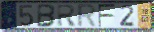2: (119, 4, 136, 28)
5: (18, 4, 36, 28)
B: (36, 4, 57, 28)
F: (97, 3, 117, 29)
R: (76, 3, 98, 29), (57, 4, 78, 28)
